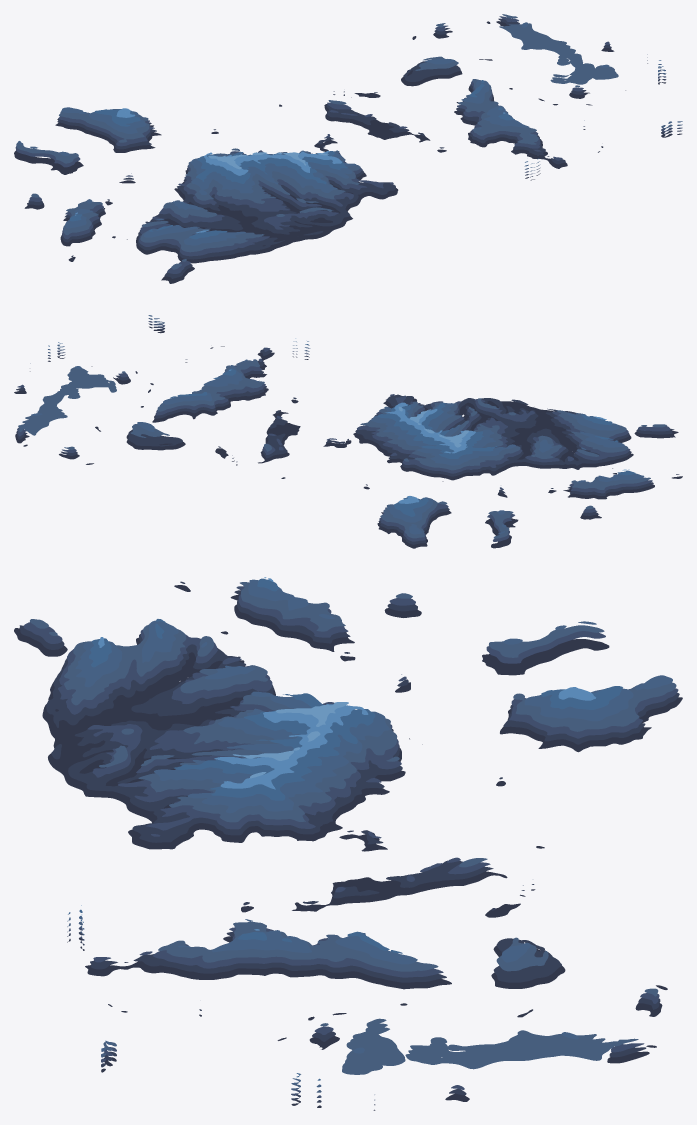
File: test continents6.glb
3 views of the same model, one above another, from view 1: azimuth 30°, elevation 25°; view 2: azimuth 150°, elevation 25°; view 3: azimuth 270°, elevation 25° (orthographic). The views are drawn at different scales.
Parts seen in each view (by area): view 1: island layer; view 2: island layer; view 3: island layer.
Part boxes in pixels (box(x1,y1,x2,y2)): island layer: box(14, 14, 682, 283); island layer: box(14, 315, 682, 548); island layer: box(14, 577, 682, 1110).
Size of what is drawn, in the model's own units: 13.94 by 0.4745 by 7.5.
1 material, 1 textured.
